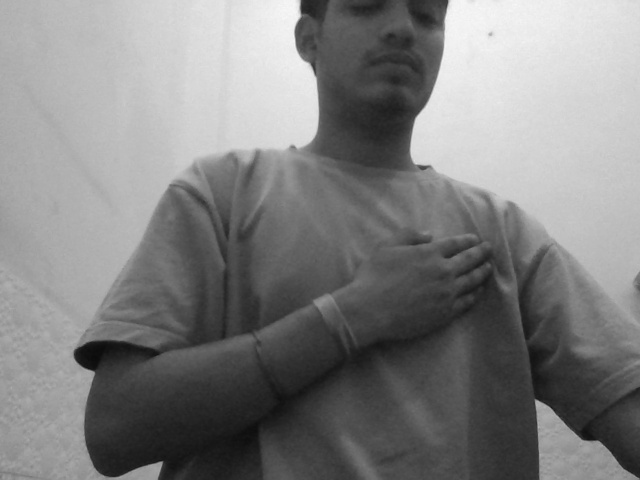Sorry: (334, 211, 567, 388)
